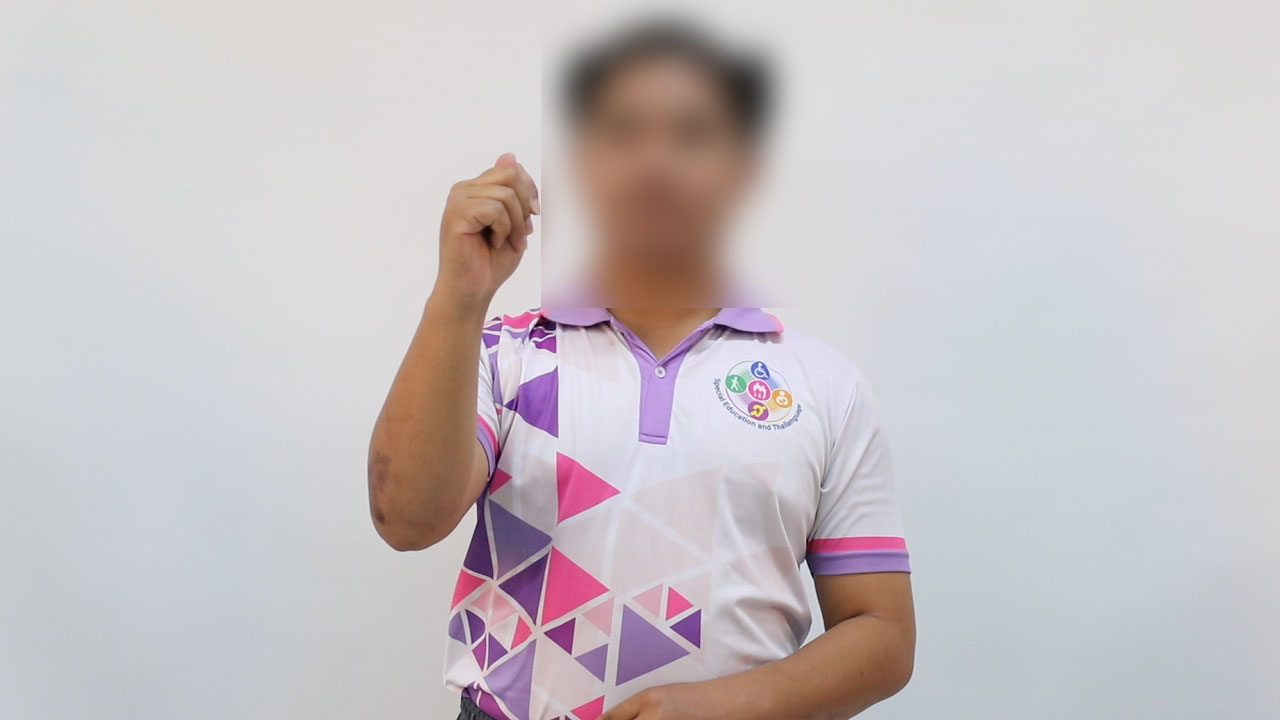tor: (420, 134, 574, 330)
